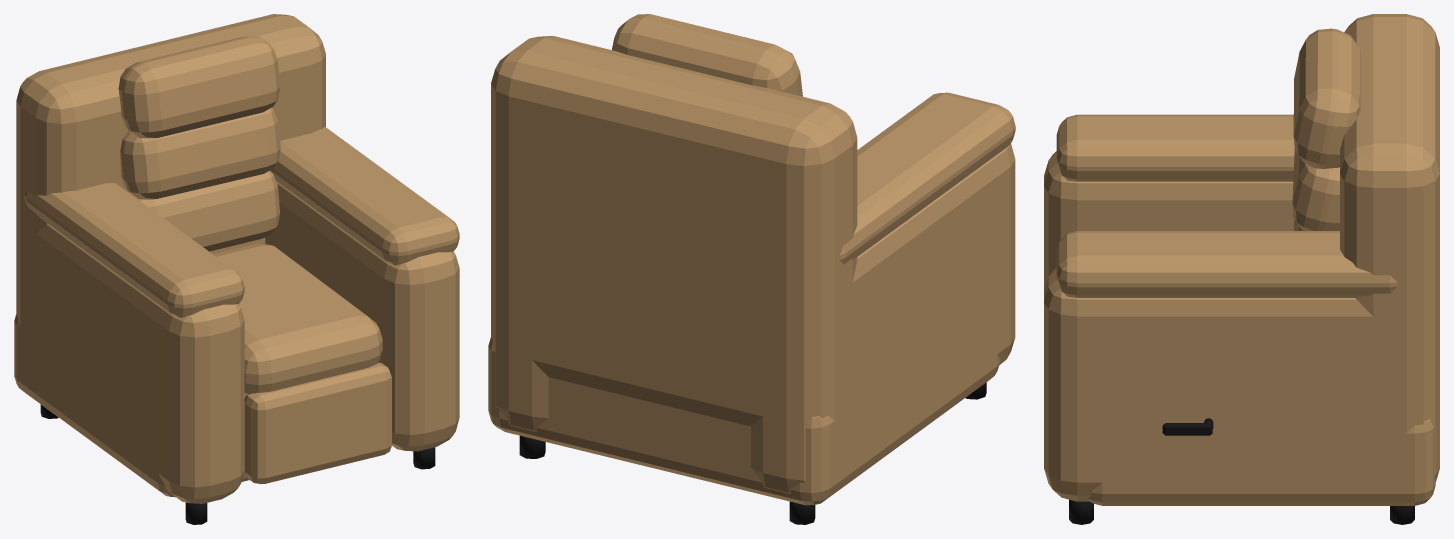
The model's file is PoltronaReclinavelBege.fbx.
The picture shows the model from 3 angles, left to right: view 1: azimuth 30°, elevation 25°; view 2: azimuth 150°, elevation 25°; view 3: azimuth 270°, elevation 25°; orthographic projection. The views are drawn at different scales.
Visible parts, largest first — view 1: PoltronaReclinavelBege; view 2: PoltronaReclinavelBege; view 3: PoltronaReclinavelBege.
Part boxes in pixels (bbox=[...]): PoltronaReclinavelBege: bbox=[14, 14, 459, 524]; PoltronaReclinavelBege: bbox=[488, 14, 1015, 524]; PoltronaReclinavelBege: bbox=[1044, 14, 1439, 524].
Size of the model in its own units: 0.934 by 1.05 by 0.95.
